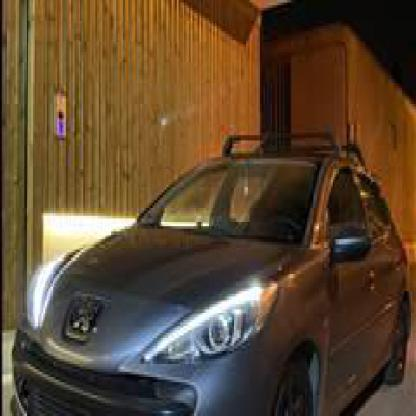car: (26, 132, 414, 414)
